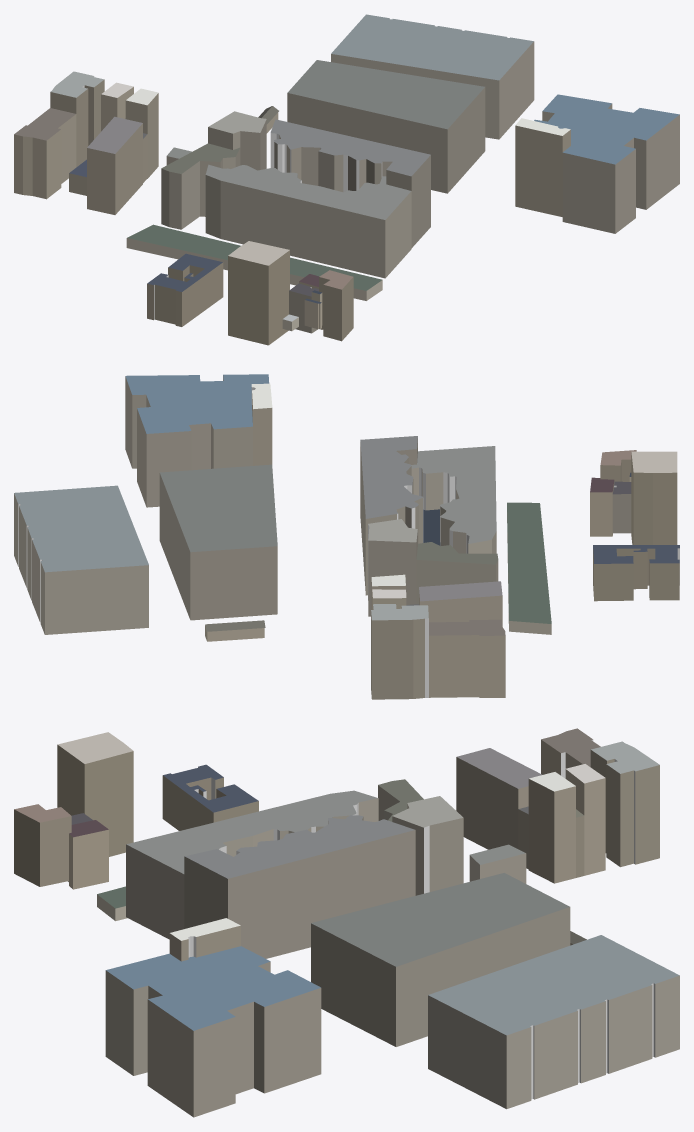
3 views of the same model, one above another, from view 1: azimuth 30°, elevation 25°; view 2: azimuth 150°, elevation 25°; view 3: azimuth 270°, elevation 25° (orthographic). The views are drawn at different scales.
Parts seen in each view (by area): view 1: tuile; view 2: tuile; view 3: tuile.
Boxes of the visible parts, x1=… form: tuile: x1=14, y1=14, x2=679, y2=345; tuile: x1=14, y1=374, x2=679, y2=699; tuile: x1=14, y1=728, x2=679, y2=1117.
Size of the model in its own units: 287 by 49.68 by 251.
